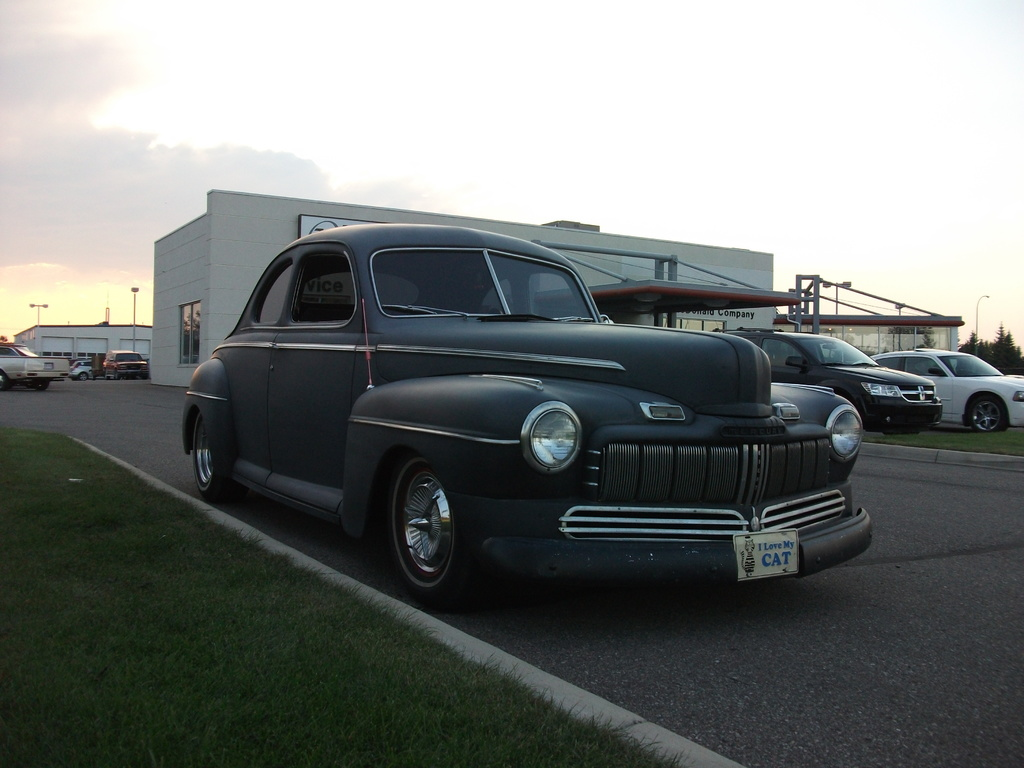Car: (182, 217, 879, 616), (724, 329, 942, 438), (872, 348, 1023, 434), (0, 343, 71, 385), (99, 349, 145, 385)
